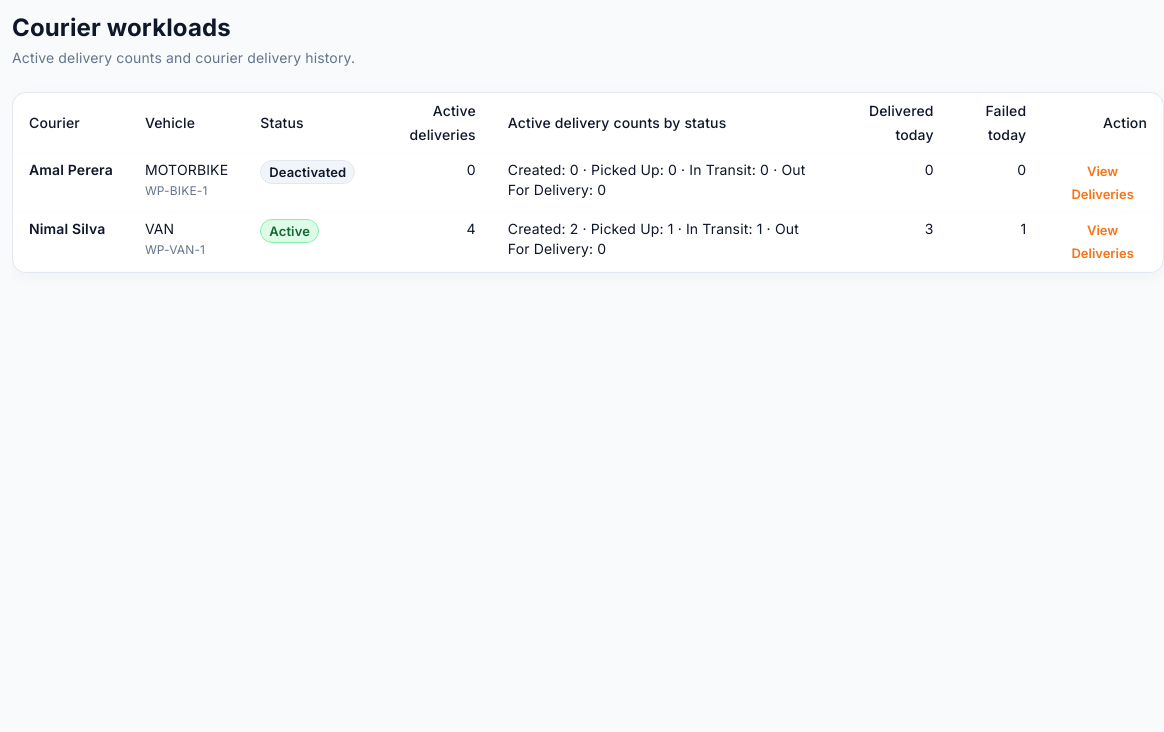
TST-040 Member #7 courier workloads › shows delivery fields and handles missing optional values
The width and height of the screenshot is (1164, 732).
Click the button with aria-label "View deliveries for Nimal Silva" at (1103, 242), box [1058, 219, 1147, 265]
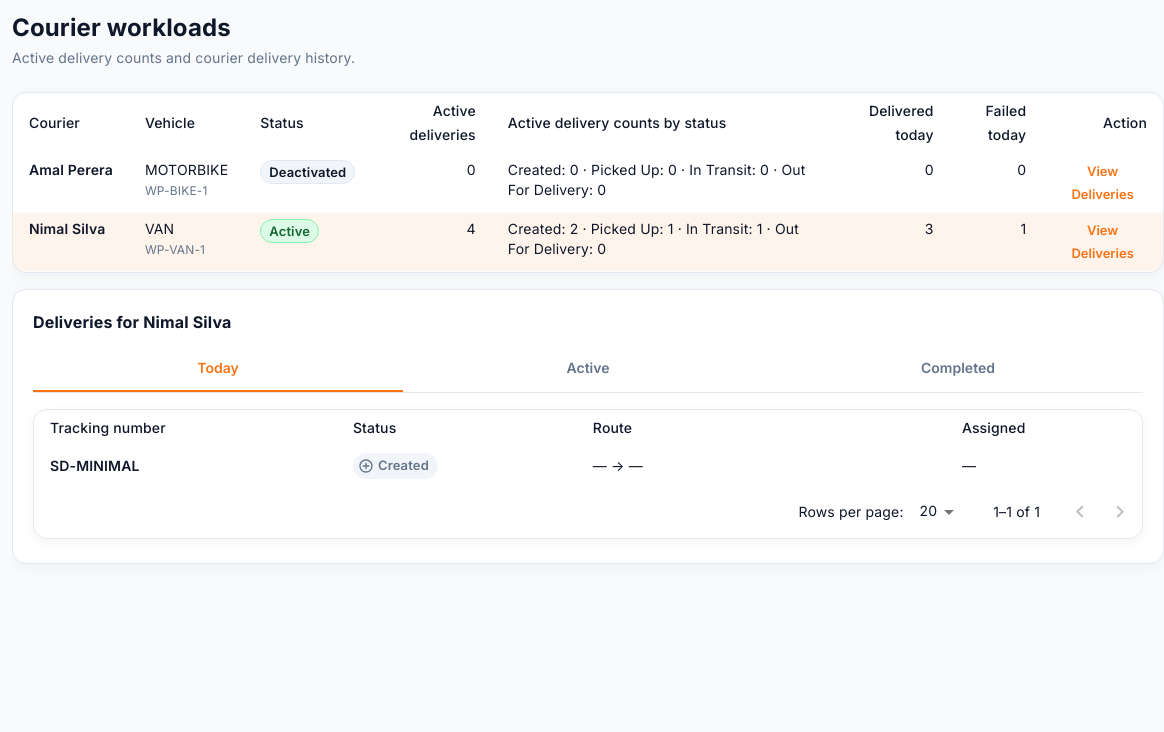
Now the text "SD-MINIMAL" is shown, box [34, 446, 337, 485]
Now the text "Created" is shown, box [378, 457, 429, 473]
Now the text "—" is shown, box [946, 446, 1142, 485]
